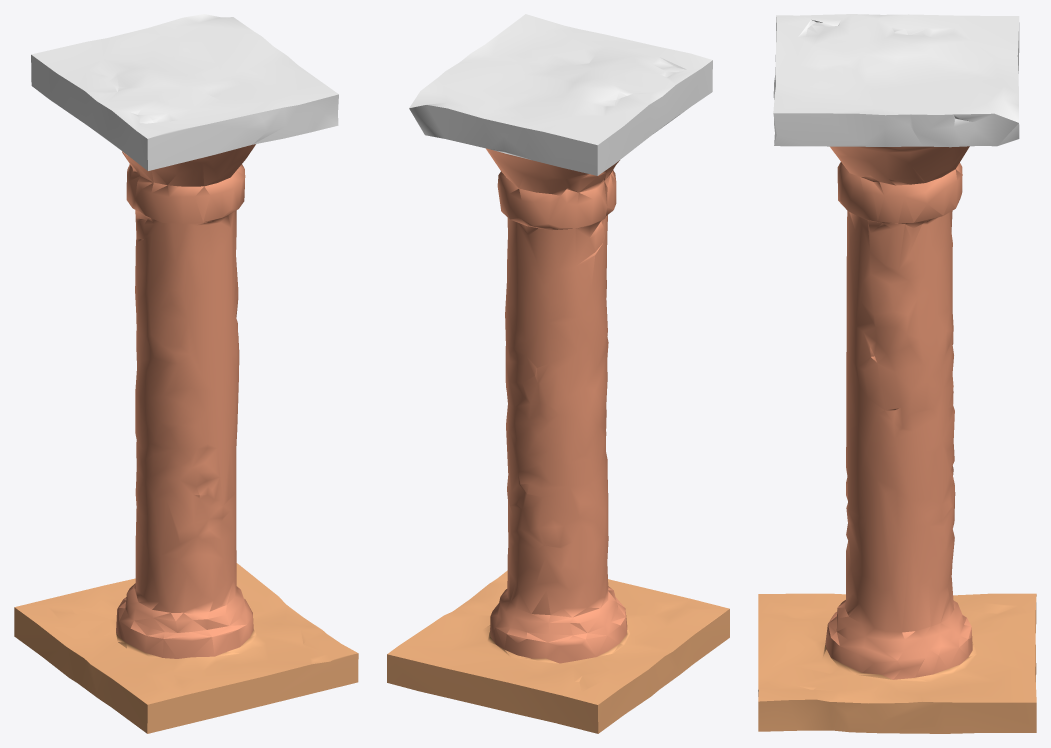
Rendered from Pillar1_fbx.fbx.
The picture shows the model from 3 angles, left to right: view 1: azimuth 30°, elevation 25°; view 2: azimuth 150°, elevation 25°; view 3: azimuth 270°, elevation 25°; orthographic projection. The views are drawn at different scales.
Visible parts, largest first — view 1: Pillar1; view 2: Pillar1; view 3: Pillar1.
Boxes of the visible parts, box(x1,y1,x2,y2) form: Pillar1: box(14, 14, 358, 733); Pillar1: box(387, 14, 729, 733); Pillar1: box(758, 14, 1036, 733).
Bounding box in the file's own units: 2.75 × 7.33 × 2.99.
